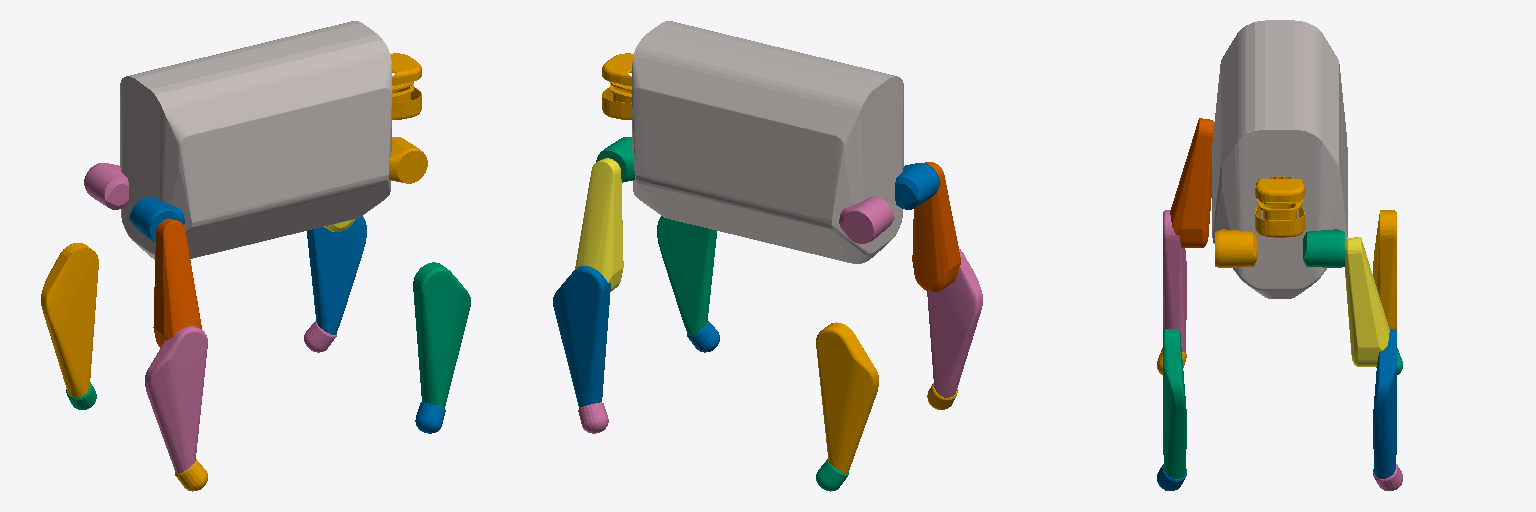
--- Render facts (derived) ---
3 views of the same robot in one strip: view 1: azimuth 30°, elevation 25°; view 2: azimuth 150°, elevation 25°; view 3: azimuth 270°, elevation 25° (orthographic).
Model anymal with 33 links and 32 joints (12 revolute, 1 continuous, 19 fixed), rooted at base, posed all joints at 0.
Links seen in each view (by area): view 1: base, LH_SHANK, RH_SHANK, RF_SHANK, LF_SHANK, RH_THIGH, actuated_lidar_front_hokuyo, LH_HIP, RF_HIP, RH_HIP, RF_FOOT_SENSOR, RH_FOOT_SENSOR (+1 smaller); view 2: base, LH_SHANK, LF_SHANK, RH_SHANK, RF_SHANK, LF_THIGH, RH_THIGH, LH_HIP, actuated_lidar_front_hokuyo, RH_HIP, LF_HIP, LF_FOOT_SENSOR (+2 smaller); view 3: base, LF_THIGH, RH_THIGH, RF_SHANK, LF_SHANK, actuated_lidar_front_hokuyo, RH_SHANK, LH_SHANK, LF_HIP, RF_HIP.
Boxes of the visible links, box(x1,y1,x2,y2) form: base: box(120, 21, 391, 259); LH_SHANK: box(41, 243, 98, 397); RH_SHANK: box(145, 326, 207, 473); RF_SHANK: box(413, 262, 470, 407); LF_SHANK: box(307, 216, 366, 334); RH_THIGH: box(153, 218, 201, 347); actuated_lidar_front_hokuyo: box(390, 53, 421, 119); LH_HIP: box(84, 163, 128, 209); RF_HIP: box(389, 137, 427, 183); RH_HIP: box(129, 197, 184, 242); RF_FOOT_SENSOR: box(415, 402, 445, 433); RH_FOOT_SENSOR: box(175, 459, 207, 491); base: box(632, 21, 903, 263); LH_SHANK: box(816, 322, 878, 473); LF_SHANK: box(553, 266, 610, 407); RH_SHANK: box(927, 249, 982, 397); RF_SHANK: box(657, 216, 716, 334); LF_THIGH: box(575, 158, 623, 290); RH_THIGH: box(912, 162, 960, 291); LH_HIP: box(839, 197, 894, 243); actuated_lidar_front_hokuyo: box(602, 53, 633, 119); RH_HIP: box(895, 163, 939, 209); LF_HIP: box(596, 137, 634, 182); LF_FOOT_SENSOR: box(578, 402, 608, 433); base: box(1212, 20, 1347, 298); LF_THIGH: box(1345, 237, 1389, 366); RH_THIGH: box(1170, 118, 1214, 247); RF_SHANK: box(1163, 329, 1186, 478); LF_SHANK: box(1373, 329, 1396, 478); actuated_lidar_front_hokuyo: box(1255, 176, 1304, 237); RH_SHANK: box(1163, 210, 1186, 352); LH_SHANK: box(1373, 210, 1396, 329); LF_HIP: box(1303, 229, 1344, 267); RF_HIP: box(1215, 229, 1256, 267).
Size in the robot's own frame: 0.8373 by 0.5658 by 0.9067 metres.
18 mesh visuals loaded from 12 distinct referenced files (1 binary STL, 9 Collada DAE); not drawn: 3 (reference not matched to a file when rendering).

URDF robot description (anymal):
<?xml version="1.0" ?>
<!-- =================================================================================== -->
<!-- |    This document was autogenerated by xacro from [local-path]/rpg-navigation/code/src/anymal_ori/anymal_ori/urdf/anymal_ori.urdf.xacro | -->
<!-- |    EDITING THIS FILE BY HAND IS NOT RECOMMENDED                                 | -->
<!-- =================================================================================== -->
<!--Copyright (C) 2015 by Dario Bellicoso                                    -->
<[email redacted]                                                 -->
<!--                                                                         -->
<!--This program is free software; you can redistribute it and/or modify     -->
<!--it under the terms of the Lesser GNU General Public License as published -->
<!--by the Free Software Foundation; either version 3 of the License, or     -->
<!--(at your option) any later version.                                      -->
<!--                                                                         -->
<!--This program is distributed in the hope that it will be useful,          -->
<!--but WITHOUT ANY WARRANTY; without even the implied warranty of           -->
<!--MERCHANTABILITY or FITNESS FOR A PARTICULAR PURPOSE. See the             -->
<!--Lesser GNU General Public License for more details.                      -->
<!--                                                                         -->
<!--You should have received a copy of the Lesser GNU General Public License -->
<!--along with this program. If not, see <http://www.gnu.org/licenses/>.     -->
<!-- This file contains the description of the ANYmal robot. -->
<robot name="anymal" xmlns:xacro="http://www.ros.org/wiki/xacro">
  <material name="black">
    <color rgba="0.0 0.0 0.0 1.0"/>
  </material>
  <material name="blue">
    <color rgba="0.0 0.0 0.8 1.0"/>
  </material>
  <material name="green">
    <color rgba="0.0 0.8 0.0 1.0"/>
  </material>
  <material name="grey">
    <color rgba="0.2 0.2 0.2 1.0"/>
  </material>
  <material name="light_grey">
    <color rgba="0.4 0.4 0.4 1.0"/>
  </material>
  <material name="orange">
    <color rgba="1.0 0.423529411765 0.0392156862745 1.0"/>
  </material>
  <material name="brown">
    <color rgba="0.870588235294 0.811764705882 0.764705882353 1.0"/>
  </material>
  <material name="red">
    <color rgba="0.8 0.0 0.0 1.0"/>
  </material>
  <material name="white">
    <color rgba="1.0 1.0 1.0 1.0"/>
  </material>
  <gazebo>
    <plugin filename="libanymal_gazebo.so" name="gazebo_ros_control">
      <robotNamespace>anymal</robotNamespace>
      <!-- Currently unused -->
      <robotDescription>quadruped_description</robotDescription>
      <robotBaseLink>base</robotBaseLink>
      <statePublisherRate>400.0</statePublisherRate>
    </plugin>
  </gazebo>
  <!-- Material for the visual primitives -->
  <material name="anymal_material">
    <color rgba="0.76078431 0.73333333 0.72156863 1.0"/>
  </material>
  <!-- Xacro:Properties -->
  <!-- [m] -->
  <!-- Base link -->
  <link name="base">
    <visual>
      <origin rpy="0 0 0" xyz="0 0 0"/>
      <geometry>
        <mesh filename="package://anymal_description_ori/urdf/base/anymal_base_2.dae" scale="0.001 0.001     0.001"/>
      </geometry>
      <material name="anymal_material"/>
    </visual>
    <collision>
      <!-- Main Body -->
      <origin rpy="0 0 0" xyz="0 0 0.08"/>
      <geometry>
        <box size="0.531 0.232 0.26"/>
      </geometry>
    </collision>
    <collision>
      <!-- Belly plate front bump -->
      <origin rpy="0 0 0" xyz="0.2155 0.0 -0.09"/>
      <geometry>
        <box size="0.1 0.1 0.07"/>
      </geometry>
    </collision>
    <collision>
      <!-- Belly plate hind bump-->
      <origin rpy="0 0 0" xyz="-0.2155 0.0 -0.09"/>
      <geometry>
        <box size="0.1 0.1 0.07"/>
      </geometry>
    </collision>
  </link>
  <!-- Fixed joint to add dummy inertia link -->
  <joint name="base_to_base_inertia" type="fixed">
    <parent link="base"/>
    <child link="base_inertia"/>
    <origin rpy="0 0 0" xyz="0 0 0"/>
  </joint>
  <!-- Dummy inertia link, because KDL cannot have inertia on the base link -->
  <link name="base_inertia">
    <inertial>
      <origin rpy="0 0 0" xyz="0.022 -0.01 0.01"/>
      <mass value="18.29"/>
      <inertia ixx="0.268388530624" ixy="0.000775392455422" ixz="-0.0151848534451" iyy="0.884235660795" iyz="-0.000989297489507" izz="0.829158678306"/>
    </inertial>
  </link>
  <!-- Xacro:Properties -->
  <!-- [m] -->
  <!-- [Nm] -->
  <link name="LF_HIP">
    <visual>
      <origin rpy="0 0 0.0" xyz="0 0 0"/>
      <geometry>
        <mesh filename="package://anymal_description_ori/urdf/hip/anymal_hip_l.dae" scale="0.001 0.001     0.001"/>
      </geometry>
    </visual>
    <collision>
      <origin rpy="1.57079632679 0 0" xyz="0.0585 0.0315 0.0"/>
      <geometry>
        <cylinder length="0.08" radius="0.04"/>
      </geometry>
    </collision>
    <inertial>
      <origin rpy="0 0 0" xyz="0.0542 -0.0136 0.0"/>
      <mass value="1.1064"/>
      <inertia ixx="0.00123301508523" ixy="-6.4285329973e-05" ixz="6.9990104e-08" iyy="0.000993231183395" iyz="2.327401345e-06" izz="0.00142160349098"/>
    </inertial>
  </link>
  <!-- Hip joint -->
  <joint name="LF_HAA" type="revolute">
    <parent link="base"/>
    <child link="LF_HIP"/>
    <origin xyz="0.2629 0.115 0.0"/>
    <axis xyz="1 0 0"/>
    <limit effort="80" lower="-6.28" upper="6.28" velocity="15"/>
    <dynamics damping="0.0" friction="0.0"/>
  </joint>
  <!-- Xacro:Properties -->
  <!-- [m] -->
  <!-- [Nm] -->
  <link name="LF_THIGH">
    <visual>
      <origin rpy="0 0 0.0" xyz="0 0 0"/>
      <geometry>
        <mesh filename="package://anymal_description_ori/urdf/thigh/anymal_thigh_l.dae" scale="0.001 0.001     0.001"/>
      </geometry>
    </visual>
    <collision>
      <origin rpy="0.145 0 0" xyz="0 0.02 -0.1"/>
      <geometry>
        <cylinder length="0.2" radius="0.01"/>
      </geometry>
    </collision>
    <collision>
      <origin rpy="1.57079632679 0 0" xyz="0.0 0.07 -0.25"/>
      <geometry>
        <cylinder length="0.08" radius="0.04"/>
      </geometry>
    </collision>
    <inertial>
      <origin rpy="0 0 0" xyz="0.0008 0.0545 -0.1975"/>
      <mass value="1.51"/>
      <inertia ixx="0.0147571628275" ixy="-1.7996507882e-05" ixz="0.000205877679383" iyy="0.0144188925719" iyz="-0.00181291342366" izz="0.00178449075964"/>
    </inertial>
  </link>
  <!-- Thigh joint -->
  <joint name="LF_HFE" type="revolute">
    <parent link="LF_HIP"/>
    <child link="LF_THIGH"/>
    <origin xyz="0.0585                    0.0315                    0.0"/>
    <axis xyz="0 1 0"/>
    <limit effort="80" lower="-6.28" upper="6.28" velocity="15"/>
    <dynamics damping="0.0" friction="0.0"/>
  </joint>
  <!-- Xacro:Properties -->
  <!-- [m] -->
  <!-- [Nm] -->
  <link name="LF_SHANK">
    <visual>
      <origin rpy="0 0 0.0" xyz="0 0 0"/>
      <geometry>
        <mesh filename="package://anymal_description_ori/urdf/shank/anymal_shank_2_l.dae" scale="0.001 0.001     0.001"/>
      </geometry>
    </visual>
    <collision>
      <origin rpy="0 -0.9 -0.2" xyz="0.04 -0.02 -0.04"/>
      <geometry>
        <cylinder length="0.13" radius="0.015"/>
      </geometry>
    </collision>
    <collision>
      <origin rpy="-0.0 0.34 0" xyz="0.06 -0.03 -0.18"/>
      <geometry>
        <cylinder length="0.19" radius="0.015"/>
      </geometry>
    </collision>
    <inertial>
      <origin rpy="0 0 0" xyz="0.016355414056 -0.00562219106 -0.064350437219"/>
      <mass value="0.318"/>
      <inertia ixx="0.0037693717909" ixy="-7.7334500762e-05" ixz="-0.000152069372983" iyy="0.00400446467635" iyz="-0.0003218356083" izz="0.000418471691904"/>
    </inertial>
  </link>
  <!-- Shank joint -->
  <joint name="LF_KFE" type="revolute">
    <parent link="LF_THIGH"/>
    <child link="LF_SHANK"/>
    <origin xyz="0.0 0.111 -0.25"/>
    <axis xyz="0 1 0"/>
    <limit effort="80" lower="-6.28" upper="6.28" velocity="15"/>
    <dynamics damping="0.0" friction="0.0"/>
  </joint>
  <!-- Foot mount link -->
  <link name="LF_FOOT_MOUNT"/>
  <!-- Foot mount joint / ankle -->
  <joint name="LF_ANKLE_JOINT" type="fixed">
    <parent link="LF_SHANK"/>
    <child link="LF_FOOT_MOUNT"/>
    <origin rpy="0.323 0.549 0" xyz="0.0 -0.016 -0.31"/>
  </joint>
  <!-- Xacro:Properties -->
  <!-- [m] -->
  <link name="LF_FOOT_SENSOR">
    <visual>
      <origin rpy="0 0 0" xyz="0 0 0"/>
      <geometry>
        <mesh filename="package://anymal_description_ori/urdf/foot/anymal_foot_2.dae" scale="0.001 0.001     0.001"/>
      </geometry>
    </visual>
    <collision>
      <origin rpy="0 0 0" xyz="0.0 0.0 -0.0385"/>
      <geometry>
        <sphere radius="0.02"/>
      </geometry>
    </collision>
    <inertial>
      <origin rpy="0 0 0" xyz="-5.552058e-06 7.1133124e-05 -0.021388647779"/>
      <mass value="0.1922685"/>
      <inertia ixx="8.3086410294e-05" ixy="4.16901601e-07" ixz="3.99054799e-07" iyy="8.2860209667e-05" iyz="-3.45712252e-07" izz="8.1948124086e-05"/>
    </inertial>
  </link>
  <!-- Foot sensor joint -->
  <joint name="LF_MOUNT_TO_SENSOR" type="fixed">
    <parent link="LF_FOOT_MOUNT"/>
    <child link="LF_FOOT_SENSOR"/>
    <origin rpy="0 0 0" xyz="0 0 0"/>
  </joint>
  <!-- Gazebo customization -->
  <gazebo reference="LF_FOOT_SENSOR">
    <kp>1000000.0</kp>
    <kd>100.0</kd>
    <mu1>0.8</mu1>
    <mu2>0.8</mu2>
  </gazebo>
  <gazebo reference="LF_MOUNT_TO_SENSOR"/>
  <!-- Foot link -->
  <link name="LF_FOOT">
    </link>
  <!-- Foot joint -->
  <joint name="LF_SENSOR_TO_FOOT" type="fixed">
    <parent link="LF_FOOT_SENSOR"/>
    <child link="LF_FOOT"/>
    <origin rpy="0 0 0" xyz="0.0 0.0 -0.0385"/>
  </joint>
  <!-- Xacro:Properties -->
  <!-- [m] -->
  <!-- [Nm] -->
  <link name="RF_HIP">
    <visual>
      <origin rpy="0 0 0.0" xyz="0 0 0"/>
      <geometry>
        <mesh filename="package://anymal_description_ori/urdf/hip/anymal_hip_r.dae" scale="0.001 0.001     0.001"/>
      </geometry>
    </visual>
    <collision>
      <origin rpy="1.57079632679 0 0" xyz="0.0585 -0.0315 0.0"/>
      <geometry>
        <cylinder length="0.08" radius="0.04"/>
      </geometry>
    </collision>
    <inertial>
      <origin rpy="0 0 0" xyz="0.0542 0.0136 0.0"/>
      <mass value="1.1064"/>
      <inertia ixx="0.00123301508523" ixy="6.4285329973e-05" ixz="6.9990104e-08" iyy="0.000993231183395" iyz="-2.327401345e-06" izz="0.00142160349098"/>
    </inertial>
  </link>
  <!-- Hip joint -->
  <joint name="RF_HAA" type="revolute">
    <parent link="base"/>
    <child link="RF_HIP"/>
    <origin xyz="0.2629 -0.115 0.0"/>
    <axis xyz="1 0 0"/>
    <limit effort="80" lower="-6.28" upper="6.28" velocity="15"/>
    <dynamics damping="0.0" friction="0.0"/>
  </joint>
  <!-- Xacro:Properties -->
  <!-- [m] -->
  <!-- [Nm] -->
  <link name="RF_THIGH">
    <visual>
      <origin rpy="0 0 0.0" xyz="0 0 0"/>
      <geometry>
        <mesh filename="package://anymal_description_ori/urdf/thigh/anymal_thigh_r.dae" scale="0.001 0.001     0.001"/>
      </geometry>
    </visual>
    <collision>
      <origin rpy="-0.145 0 0" xyz="0 -0.02 -0.1"/>
      <geometry>
        <cylinder length="0.2" radius="0.01"/>
      </geometry>
    </collision>
    <collision>
      <origin rpy="1.57079632679 0 0" xyz="0.0 -0.07 -0.25"/>
      <geometry>
        <cylinder length="0.08" radius="0.04"/>
      </geometry>
    </collision>
    <inertial>
      <origin rpy="0 0 0" xyz="0.0008 -0.0545 -0.1975"/>
      <mass value="1.51"/>
      <inertia ixx="0.0147571628275" ixy="1.7996507882e-05" ixz="0.000205877679383" iyy="0.0144188925719" iyz="0.00181291342366" izz="0.00178449075964"/>
    </inertial>
  </link>
  <!-- Thigh joint -->
  <joint name="RF_HFE" type="revolute">
    <parent link="RF_HIP"/>
    <child link="RF_THIGH"/>
    <origin xyz="0.0585                    -0.0315                    0.0"/>
    <axis xyz="0 1 0"/>
    <limit effort="80" lower="-6.28" upper="6.28" velocity="15"/>
    <dynamics damping="0.0" friction="0.0"/>
  </joint>
  <!-- Xacro:Properties -->
  <!-- [m] -->
  <!-- [Nm] -->
  <link name="RF_SHANK">
    <visual>
      <origin rpy="0 0 0.0" xyz="0 0 0"/>
      <geometry>
        <mesh filename="package://anymal_description_ori/urdf/shank/anymal_shank_2_r.dae" scale="0.001 0.001     0.001"/>
      </geometry>
    </visual>
    <collision>
      <origin rpy="0 -0.9 0.2" xyz="0.04 0.02 -0.04"/>
      <geometry>
        <cylinder length="0.13" radius="0.015"/>
      </geometry>
    </collision>
    <collision>
      <origin rpy="0.0 0.34 0" xyz="0.06 0.03 -0.18"/>
      <geometry>
        <cylinder length="0.19" radius="0.015"/>
      </geometry>
    </collision>
    <inertial>
      <origin rpy="0 0 0" xyz="0.016355414056 0.00562219106 -0.064350437219"/>
      <mass value="0.318"/>
      <inertia ixx="0.0037693717909" ixy="7.7334500762e-05" ixz="-0.000152069372983" iyy="0.00400446467635" iyz="0.0003218356083" izz="0.000418471691904"/>
    </inertial>
  </link>
  <!-- Shank joint -->
  <joint name="RF_KFE" type="revolute">
    <parent link="RF_THIGH"/>
    <child link="RF_SHANK"/>
    <origin xyz="0.0 -0.111 -0.25"/>
    <axis xyz="0 1 0"/>
    <limit effort="80" lower="-6.28" upper="6.28" velocity="15"/>
    <dynamics damping="0.0" friction="0.0"/>
  </joint>
  <!-- Foot mount link -->
  <link name="RF_FOOT_MOUNT"/>
  <!-- Foot mount joint / ankle -->
  <joint name="RF_ANKLE_JOINT" type="fixed">
    <parent link="RF_SHANK"/>
    <child link="RF_FOOT_MOUNT"/>
    <origin rpy="-0.323 0.549 0" xyz="0.0 0.016 -0.31"/>
  </joint>
  <!-- Xacro:Properties -->
  <!-- [m] -->
  <link name="RF_FOOT_SENSOR">
    <visual>
      <origin rpy="0 0 0" xyz="0 0 0"/>
      <geometry>
        <mesh filename="package://anymal_description_ori/urdf/foot/anymal_foot_2.dae" scale="0.001 0.001     0.001"/>
      </geometry>
    </visual>
    <collision>
      <origin rpy="0 0 0" xyz="0.0 0.0 -0.0385"/>
      <geometry>
        <sphere radius="0.02"/>
      </geometry>
    </collision>
    <inertial>
      <origin rpy="0 0 0" xyz="-5.552058e-06 -7.1133124e-05 -0.021388647779"/>
      <mass value="0.1922685"/>
      <inertia ixx="8.3086410294e-05" ixy="-4.16901601e-07" ixz="3.99054799e-07" iyy="8.2860209667e-05" iyz="3.45712252e-07" izz="8.1948124086e-05"/>
    </inertial>
  </link>
  <!-- Foot sensor joint -->
  <joint name="RF_MOUNT_TO_SENSOR" type="fixed">
    <parent link="RF_FOOT_MOUNT"/>
    <child link="RF_FOOT_SENSOR"/>
    <origin rpy="0 0 0" xyz="0 0 0"/>
  </joint>
  <!-- Gazebo customization -->
  <gazebo reference="RF_FOOT_SENSOR">
    <kp>1000000.0</kp>
    <kd>100.0</kd>
    <mu1>0.8</mu1>
    <mu2>0.8</mu2>
  </gazebo>
  <gazebo reference="RF_MOUNT_TO_SENSOR"/>
  <!-- Foot link -->
  <link name="RF_FOOT">
    </link>
  <!-- Foot joint -->
  <joint name="RF_SENSOR_TO_FOOT" type="fixed">
    <parent link="RF_FOOT_SENSOR"/>
    <child link="RF_FOOT"/>
    <origin rpy="0 0 0" xyz="0.0 0.0 -0.0385"/>
  </joint>
  <!-- Xacro:Properties -->
  <!-- [m] -->
  <!-- [Nm] -->
  <link name="LH_HIP">
    <visual>
      <origin rpy="0 0 -3.14159265359" xyz="0 0 0"/>
      <geometry>
        <mesh filename="package://anymal_description_ori/urdf/hip/anymal_hip_r.dae" scale="0.001 0.001     0.001"/>
      </geometry>
    </visual>
    <collision>
      <origin rpy="-1.57079632679 0 0" xyz="-0.0585 0.0315 0.0"/>
      <geometry>
        <cylinder length="0.08" radius="0.04"/>
      </geometry>
    </collision>
    <inertial>
      <origin rpy="0 0 0" xyz="-0.0542 -0.0136 0.0"/>
      <mass value="1.1064"/>
      <inertia ixx="0.00123301508523" ixy="6.4285329973e-05" ixz="-6.9990104e-08" iyy="0.000993231183395" iyz="2.327401345e-06" izz="0.00142160349098"/>
    </inertial>
  </link>
  <!-- Hip joint -->
  <joint name="LH_HAA" type="revolute">
    <parent link="base"/>
    <child link="LH_HIP"/>
    <origin xyz="-0.2629 0.115 0.0"/>
    <axis xyz="1 0 0"/>
    <limit effort="80" lower="-6.28" upper="6.28" velocity="15"/>
    <dynamics damping="0.0" friction="0.0"/>
  </joint>
  <!-- Xacro:Properties -->
  <!-- [m] -->
  <!-- [Nm] -->
  <link name="LH_THIGH">
    <visual>
      <origin rpy="0 0 -3.14159265359" xyz="0 0 0"/>
      <geometry>
        <mesh filename="package://anymal_description_ori/urdf/thigh/anymal_thigh_r.dae" scale="0.001 0.001     0.001"/>
      </geometry>
    </visual>
    <collision>
      <origin rpy="0.145 0 0" xyz="0 0.02 -0.1"/>
      <geometry>
        <cylinder length="0.2" radius="0.01"/>
      </geometry>
    </collision>
    <collision>
      <origin rpy="1.57079632679 0 0" xyz="0.0 0.07 -0.25"/>
      <geometry>
        <cylinder length="0.08" radius="0.04"/>
      </geometry>
    </collision>
    <inertial>
      <origin rpy="0 0 0" xyz="-0.0008 0.0545 -0.1975"/>
      <mass value="1.51"/>
      <inertia ixx="0.0147571628275" ixy="1.7996507882e-05" ixz="-0.000205877679383" iyy="0.0144188925719" iyz="-0.00181291342366" izz="0.00178449075964"/>
    </inertial>
  </link>
  <!-- Thigh joint -->
  <joint name="LH_HFE" type="revolute">
    <parent link="LH_HIP"/>
    <child link="LH_THIGH"/>
    <origin xyz="-0.0585                    0.0315                    0.0"/>
    <axis xyz="0 1 0"/>
    <limit effort="80" lower="-6.28" upper="6.28" velocity="15"/>
    <dynamics damping="0.0" friction="0.0"/>
  </joint>
  <!-- Xacro:Properties -->
  <!-- [m] -->
  <!-- [Nm] -->
  <link name="LH_SHANK">
    <visual>
      <origin rpy="0 0 -3.14159265359" xyz="0 0 0"/>
      <geometry>
        <mesh filename="package://anymal_description_ori/urdf/shank/anymal_shank_2_r.dae" scale="0.001 0.001     0.001"/>
      </geometry>
    </visual>
    <collision>
      <origin rpy="0 0.9 0.2" xyz="-0.04 -0.02 -0.04"/>
      <geometry>
        <cylinder length="0.13" radius="0.015"/>
      </geometry>
    </collision>
    <collision>
      <origin rpy="-0.0 -0.34 0" xyz="-0.06 -0.03 -0.18"/>
      <geometry>
        <cylinder length="0.19" radius="0.015"/>
      </geometry>
    </collision>
    <inertial>
      <origin rpy="0 0 0" xyz="-0.016355414056 -0.00562219106 -0.064350437219"/>
      <mass value="0.318"/>
      <inertia ixx="0.0037693717909" ixy="7.7334500762e-05" ixz="0.000152069372983" iyy="0.00400446467635" iyz="-0.0003218356083" izz="0.000418471691904"/>
    </inertial>
  </link>
  <!-- Shank joint -->
  <joint name="LH_KFE" type="revolute">
    <parent link="LH_THIGH"/>
    <child link="LH_SHANK"/>
    <origin xyz="-0.0 0.111 -0.25"/>
    <axis xyz="0 1 0"/>
    <limit effort="80" lower="-6.28" upper="6.28" velocity="15"/>
    <dynamics damping="0.0" friction="0.0"/>
  </joint>
  <!-- Foot mount link -->
  <link name="LH_FOOT_MOUNT"/>
  <!-- Foot mount joint / ankle -->
  <joint name="LH_ANKLE_JOINT" type="fixed">
    <parent link="LH_SHANK"/>
    <child link="LH_FOOT_MOUNT"/>
    <origin rpy="0.323 -0.549 0" xyz="-0.0 -0.016 -0.31"/>
  </joint>
  <!-- Xacro:Properties -->
  <!-- [m] -->
  <link name="LH_FOOT_SENSOR">
    <visual>
      <origin rpy="0 0 0" xyz="0 0 0"/>
      <geometry>
        <mesh filename="package://anymal_description_ori/urdf/foot/anymal_foot_2.dae" scale="0.001 0.001     0.001"/>
      </geometry>
    </visual>
    <collision>
      <origin rpy="0 0 0" xyz="0.0 0.0 -0.0385"/>
      <geometry>
        <sphere radius="0.02"/>
      </geometry>
    </collision>
    <inertial>
      <origin rpy="0 0 0" xyz="5.552058e-06 7.1133124e-05 -0.021388647779"/>
      <mass value="0.1922685"/>
      <inertia ixx="8.3086410294e-05" ixy="-4.16901601e-07" ixz="-3.99054799e-07" iyy="8.2860209667e-05" iyz="-3.45712252e-07" izz="8.1948124086e-05"/>
    </inertial>
  </link>
  <!-- Foot sensor joint -->
  <joint name="LH_MOUNT_TO_SENSOR" type="fixed">
    <parent link="LH_FOOT_MOUNT"/>
    <child link="LH_FOOT_SENSOR"/>
    <origin rpy="0 0 0" xyz="0 0 0"/>
  </joint>
  <!-- Gazebo customization -->
  <gazebo reference="LH_FOOT_SENSOR">
    <kp>1000000.0</kp>
    <kd>100.0</kd>
    <mu1>0.8</mu1>
    <mu2>0.8</mu2>
  </gazebo>
  <gazebo reference="LH_MOUNT_TO_SENSOR"/>
  <!-- Foot link -->
  <link name="LH_FOOT">
    </link>
  <!-- Foot joint -->
  <joint name="LH_SENSOR_TO_FOOT" type="fixed">
    <parent link="LH_FOOT_SENSOR"/>
    <child link="LH_FOOT"/>
    <origin rpy="0 0 0" xyz="0.0 0.0 -0.0385"/>
  </joint>
  <!-- Xacro:Properties -->
  <!-- [m] -->
  <!-- [Nm] -->
  <link name="RH_HIP">
    <visual>
      <origin rpy="0 0 -3.14159265359" xyz="0 0 0"/>
      <geometry>
        <mesh filename="package://anymal_description_ori/urdf/hip/anymal_hip_l.dae" scale="0.001 0.001     0.001"/>
      </geometry>
    </visual>
    <collision>
      <origin rpy="-1.57079632679 0 0" xyz="-0.0585 -0.0315 0.0"/>
      <geometry>
        <cylinder length="0.08" radius="0.04"/>
      </geometry>
    </collision>
    <inertial>
      <origin rpy="0 0 0" xyz="-0.0542 0.0136 0.0"/>
      <mass value="1.1064"/>
      <inertia ixx="0.00123301508523" ixy="-6.4285329973e-05" ixz="-6.9990104e-08" iyy="0.000993231183395" iyz="-2.327401345e-06" izz="0.00142160349098"/>
    </inertial>
  </link>
  <!-- Hip joint -->
  <joint name="RH_HAA" type="revolute">
    <parent link="base"/>
    <child link="RH_HIP"/>
    <origin xyz="-0.2629 -0.115 0.0"/>
    <axis xyz="1 0 0"/>
    <limit effort="80" lower="-6.28" upper="6.28" velocity="15"/>
    <dynamics damping="0.0" friction="0.0"/>
  </joint>
  <!-- Xacro:Properties -->
  <!-- [m] -->
  <!-- [Nm] -->
  <link name="RH_THIGH">
    <visual>
      <origin rpy="0 0 -3.14159265359" xyz="0 0 0"/>
      <geometry>
        <mesh filename="package://anymal_description_ori/urdf/thigh/anymal_thigh_l.dae" scale="0.001 0.001     0.001"/>
      </geometry>
    </visual>
    <collision>
      <origin rpy="-0.145 0 0" xyz="0 -0.02 -0.1"/>
      <geometry>
        <cylinder length="0.2" radius="0.01"/>
      </geometry>
    </collision>
    <collision>
      <origin rpy="1.57079632679 0 0" xyz="0.0 -0.07 -0.25"/>
      <geometry>
        <cylinder length="0.08" radius="0.04"/>
      </geometry>
    </collision>
    <inertial>
      <origin rpy="0 0 0" xyz="-0.0008 -0.0545 -0.1975"/>
      <mass value="1.51"/>
      <inertia ixx="0.0147571628275" ixy="-1.7996507882e-05" ixz="-0.000205877679383" iyy="0.0144188925719" iyz="0.00181291342366" izz="0.00178449075964"/>
    </inertial>
  </link>
  <!-- Thigh joint -->
  <joint name="RH_HFE" type="revolute">
    <parent link="RH_HIP"/>
    <child link="RH_THIGH"/>
    <origin xyz="-0.0585                    -0.0315                    0.0"/>
    <axis xyz="0 1 0"/>
    <limit effort="80" lower="-6.28" upper="6.28" velocity="15"/>
    <dynamics damping="0.0" friction="0.0"/>
  </joint>
  <!-- Xacro:Properties -->
  <!-- [m] -->
  <!-- [Nm] -->
  <link name="RH_SHANK">
    <visual>
      <origin rpy="0 0 -3.14159265359" xyz="0 0 0"/>
      <geometry>
        <mesh filename="package://anymal_description_ori/urdf/shank/anymal_shank_2_l.dae" scale="0.001 0.001     0.001"/>
      </geometry>
    </visual>
    <collision>
      <origin rpy="0 0.9 -0.2" xyz="-0.04 0.02 -0.04"/>
      <geometry>
        <cylinder length="0.13" radius="0.015"/>
      </geometry>
    </collision>
    <collision>
      <origin rpy="0.0 -0.34 0" xyz="-0.06 0.03 -0.18"/>
      <geometry>
        <cylinder length="0.19" radius="0.015"/>
      </geometry>
    </collision>
    <inertial>
      <origin rpy="0 0 0" xyz="-0.016355414056 0.00562219106 -0.064350437219"/>
      <mass value="0.318"/>
      <inertia ixx="0.0037693717909" ixy="-7.7334500762e-05" ixz="0.000152069372983" iyy="0.00400446467635" iyz="0.0003218356083" izz="0.000418471691904"/>
    </inertial>
  </link>
  <!-- Shank joint -->
  <joint name="RH_KFE" type="revolute">
    <parent link="RH_THIGH"/>
    <child link="RH_SHANK"/>
    <origin xyz="-0.0 -0.111 -0.25"/>
    <axis xyz="0 1 0"/>
    <limit effort="80" lower="-6.28" upper="6.28" velocity="15"/>
    <dynamics damping="0.0" friction="0.0"/>
  </joint>
  <!-- Foot mount link -->
  <link name="RH_FOOT_MOUNT"/>
  <!-- Foot mount joint / ankle -->
  <joint name="RH_ANKLE_JOINT" type="fixed">
    <parent link="RH_SHANK"/>
    <child link="RH_FOOT_MOUNT"/>
    <origin rpy="-0.323 -0.549 0" xyz="-0.0 0.016 -0.31"/>
  </joint>
  <!-- Xacro:Properties -->
  <!-- [m] -->
  <link name="RH_FOOT_SENSOR">
    <visual>
      <origin rpy="0 0 0" xyz="0 0 0"/>
      <geometry>
        <mesh filename="package://anymal_description_ori/urdf/foot/anymal_foot_2.dae" scale="0.001 0.001     0.001"/>
      </geometry>
    </visual>
    <collision>
      <origin rpy="0 0 0" xyz="0.0 0.0 -0.0385"/>
      <geometry>
        <sphere radius="0.02"/>
      </geometry>
    </collision>
    <inertial>
      <origin rpy="0 0 0" xyz="5.552058e-06 -7.1133124e-05 -0.021388647779"/>
      <mass value="0.1922685"/>
      <inertia ixx="8.3086410294e-05" ixy="4.16901601e-07" ixz="-3.99054799e-07" iyy="8.2860209667e-05" iyz="3.45712252e-07" izz="8.1948124086e-05"/>
    </inertial>
  </link>
  <!-- Foot sensor joint -->
  <joint name="RH_MOUNT_TO_SENSOR" type="fixed">
    <parent link="RH_FOOT_MOUNT"/>
    <child link="RH_FOOT_SENSOR"/>
    <origin rpy="0 0 0" xyz="0 0 0"/>
  </joint>
  <!-- Gazebo customization -->
  <gazebo reference="RH_FOOT_SENSOR">
    <kp>1000000.0</kp>
    <kd>100.0</kd>
    <mu1>0.8</mu1>
    <mu2>0.8</mu2>
  </gazebo>
  <gazebo reference="RH_MOUNT_TO_SENSOR"/>
  <!-- Foot link -->
  <link name="RH_FOOT">
    </link>
  <!-- Foot joint -->
  <joint name="RH_SENSOR_TO_FOOT" type="fixed">
    <parent link="RH_FOOT_SENSOR"/>
    <child link="RH_FOOT"/>
    <origin rpy="0 0 0" xyz="0.0 0.0 -0.0385"/>
  </joint>
  <link name="imu_link">
    <visual>
      <origin rpy="0 0 0" xyz="0 0 0.011"/>
      <geometry>
        <box size="0.058 0.058 0.022"/>
      </geometry>
      <material name="orange"/>
    </visual>
    <collision>
      <origin rpy="0 0 0" xyz="0 0 0.011"/>
      <geometry>
        <box size="0.058 0.058 0.022"/>
      </geometry>
    </collision>
    <inertial>
      <mass value="0.05"/>
      <origin xyz="0 0 0"/>
      <inertia ixx="1.60333333333e-05" ixy="0.0" ixz="0.0" iyy="2.80333333333e-05" iyz="0.0" izz="1.60333333333e-05"/>
    </inertial>
  </link>
  <joint name="imu_joint" type="fixed">
    <parent link="base"/>
    <child link="imu_link"/>
    <origin rpy="3.14159265359 0 0" xyz="0.0245 -0.04255 0.1857"/>
  </joint>
  <gazebo reference="imu_link">
    <material>Gazebo/Orange</material>
    <mu1>0.8</mu1>
    <mu2>0.8</mu2>
  </gazebo>
  <gazebo reference="imu_joint">
      </gazebo>
  <gazebo>
    <plugin filename="libhector_gazebo_ros_imu.so" name="imu_plugin">
      <robotNamespace>sensors</robotNamespace>
      <bodyName>imu_link</bodyName>
      <frameId>/imu_link</frameId>
      <topicName>imu</topicName>
      <biasTopicName>imu/bias</biasTopicName>
      <serviceName>imu/calibrate</serviceName>
      <updateRate>400</updateRate>
      <!-- See https://www.xsens.com/wp-content/uploads/2013/11/mti-leaflet.pdf for the complete IMU specs-->
      <accelOffset>0 0 0</accelOffset>
      <accelDrift>0.5 0.5 0.5</accelDrift>
      <accelDriftFrequency>0 0 0</accelDriftFrequency>
      <accelGaussianNoise>0.35 0.35 0.3</accelGaussianNoise>
      <accelScaleError>1 1 1</accelScaleError>
      <rateOffset>0 0 0</rateOffset>
      <rateDrift>0.1 0.1 0.1</rateDrift>
      <rateDriftFrequency>0 0 0</rateDriftFrequency>
      <rateGaussianNoise>0.05 0.05 0.015</rateGaussianNoise>
      <rateScaleError>1 1 1</rateScaleError>
      <yawOffset>0</yawOffset>
      <yawDrift>0.1</yawDrift>
      <yawDriftFrequency>0</yawDriftFrequency>
      <yawGaussianNoise>0.05</yawGaussianNoise>
      <yawScaleError>1</yawScaleError>
      <xyzOffsets>0 0 0</xyzOffsets>
      <rpyOffsets>0 0 0</rpyOffsets>
    </plugin>
  </gazebo>
  <joint name="base_to_actuated_lidar_front_mass" type="fixed">
    <origin rpy="0.0 0.0 0.0" xyz="0.0 0.0 0.0"/>
    <parent link="base"/>
    <child link="actuated_lidar_front_mass"/>
  </joint>
  <link name="actuated_lidar_front_mass">
    <inertial>
      <origin rpy="0 0 0" xyz="0.292841755952 0.001047900228 0.141427870709"/>
      <mass value="1.392418888"/>
      <inertia ixx="0.002305684069948" ixy="-0.000086948644451" ixz="0.000921858442372" iyy="0.006893867805815" iyz="0.000017735314243" izz="0.006221132462993"/>
    </inertial>
  </link>
  <joint name="base_to_actuated_lidar_front_dynamixel_axis_aligned" type="fixed">
    <origin rpy="1.57079632679 0.0 1.57079632679" xyz="0.2 0.0 0.1415"/>
    <parent link="base"/>
    <child link="actuated_lidar_front_dynamixel_axis_aligned"/>
  </joint>
  <link name="actuated_lidar_front_dynamixel_axis_aligned">
    <visual>
      <origin rpy="0 0 0" xyz="0 0 0"/>
      <geometry>
        <mesh filename="package://actuated_lidar_description_ori/mesh/case_fix.dae" scale=".001 .001 .001"/>
      </geometry>
    </visual>
    <visual>
      <origin rpy="0 0 0" xyz="0 0 0"/>
      <geometry>
        <mesh filename="package://dynamixel_description/mesh/MX64.stl" scale=".001 .001 .001"/>
      </geometry>
      <material name="black">
        <color rgba="0.1 0.1 0.1 1"/>
      </material>
    </visual>
    <inertial>
      <origin rpy="0 0 0" xyz="0 0 0"/>
      <!-- Set the inertial parameters to neglectable values: these effects will be considered on a different rigid body -->
      <mass value="0.001"/>
      <inertia ixx="0.00001" ixy="0.0" ixz="0.0" iyy="0.00001" iyz="0.0" izz="0.00001"/>
    </inertial>
  </link>
  <joint name="actuated_lidar_front_dynamixel_axis_aligned_to_dynamixel" type="fixed">
    <origin rpy="0.0 0.0 0.0" xyz="0.0 0.0 0.0"/>
    <parent link="actuated_lidar_front_dynamixel_axis_aligned"/>
    <child link="actuated_lidar_front_dynamixel"/>
  </joint>
  <link name="actuated_lidar_front_dynamixel">
    <inertial>
      <origin rpy="0 0 0" xyz="0 0 0"/>
      <!-- Set the inertial parameters to neglectable values: these effects will be considered on a different rigid body -->
      <mass value="0.001"/>
      <inertia ixx="0.00001" ixy="0.0" ixz="0.0" iyy="0.00001" iyz="0.0" izz="0.00001"/>
      <!--<mass value="0.13"/>-->
      <!--<inertia ixx="0.000027961" ixy="0.0" ixz="0.0" iyy="0.000052184" iyz="0.0" izz="0.000043723"/>-->
    </inertial>
  </link>
  <joint name="actuated_lidar_front_dynamixel" type="continuous">
    <physics>
      <provide_feedback>true</provide_feedback>
    </physics>
    <parent link="actuated_lidar_front_dynamixel"/>
    <child link="actuated_lidar_front_dynamixel_servo"/>
    <limit effort="10" velocity="10"/>
    <origin rpy="0 0 0" xyz="0 0 0"/>
    <axis xyz="0 0 -1"/>
    <dynamics damping="0.0"/>
  </joint>
  <link name="actuated_lidar_front_dynamixel_servo"/>
  <joint name="actuated_lidar_front_dynamixel_servo_to_hokuyo_axis_aligned" type="fixed">
    <origin rpy="-1.57079632679 -1.57079632679 0" xyz="0 0 0.1515"/>
    <parent link="actuated_lidar_front_dynamixel_servo"/>
    <child link="actuated_lidar_front_hokuyo_axis_aligned"/>
  </joint>
  <link name="actuated_lidar_front_hokuyo_axis_aligned"/>
  <joint name="actuated_lidar_front_hokuyo_axis_aligned_to_hokuyo" type="fixed">
    <origin rpy="0.0 0.0 0.0" xyz="0.0 0.0 0.0"/>
    <parent link="actuated_lidar_front_hokuyo_axis_aligned"/>
    <child link="actuated_lidar_front_hokuyo"/>
  </joint>
  <link name="actuated_lidar_front_hokuyo">
    <visual>
      <origin rpy="0 0 0" xyz="0 0 0"/>
      <geometry>
        <mesh filename="package://actuated_lidar_description_ori/mesh/case_moving.dae" scale=".001 .001 .001"/>
      </geometry>
    </visual>
    <visual>
      <origin rpy="0 0 0" xyz="0 0 0"/>
      <geometry>
        <mesh filename="package://actuated_lidar_description_ori/mesh/hokuyo_utm_30lx.dae"/>
      </geometry>
      <material name="">
        <color rgba="0.72941 0.35686 0.023529 1"/>
      </material>
    </visual>
    <collision>
      <origin rpy="0 0 0" xyz="0.01 0 -0.01"/>
      <geometry>
        <cylinder length="0.12" radius="0.06"/>
      </geometry>
    </collision>
    <inertial>
      <origin rpy="0 0 0" xyz="0.0 0.0 0.0"/>
      <!-- Set the inertial parameters to neglectable values: these effects will be considered on a different rigid body -->
      <mass value="0.001"/>
      <inertia ixx="0.00001" ixy="0.0" ixz="0.0" iyy="0.00001" iyz="0.0" izz="0.00001"/>
      <!--<mass value="0.057654"/>-->
      <!--<inertia iyy="4.2412E-05" ixy="4.9927E-08" iyz="-9.8165E-09" ixx="3.7174E-05" ixz="1.1015E-05" izz="4.167E-05"/>-->
    </inertial>
  </link>
  <!-- Actuated lidar physics simulation -->
  <gazebo reference="actuated_lidar_front_link">
    <mu1>0.9</mu1>
    <mu2>0.9</mu2>
  </gazebo>
  <!-- Actuated lidar hokuyo simulation and driver -->
  <gazebo reference="actuated_lidar_front_hokuyo">
    <sensor name="actuated_lidar_front_hokuyo" type="gpu_ray">
      <pose>0 0 0 0 0 0</pose>
      <visualize>false</visualize>
      <update_rate>40</update_rate>
      <ray>
        <scan>
          <horizontal>
            <samples>1081</samples>
            <resolution>1</resolution>
            <min_angle>-2.356194496154785</min_angle>
            <max_angle>2.356194496154785</max_angle>
          </horizontal>
        </scan>
        <range>
          <min>0.10</min>
          <max>30.0</max>
          <resolution>0.01</resolution>
        </range>
        <noise>
          <type>gaussian</type>
          <!-- Noise parameters based on published spec for Hokuyo laser
                   achieving "+-30mm" accuracy at range < 10m.  A mean of 0.0m and
                   stddev of 0.01m will put 99.7% of samples within 0.03m of the true
                   reading. -->
          <mean>0.0</mean>
          <stddev>0.01</stddev>
        </noise>
      </ray>
      <plugin filename="libgazebo_ros_gpu_laser.so" name="actuated_lidar_front_hokuyo">
        <topicName>/actuated_lidar_front/scan</topicName>
        <frameName>actuated_lidar_front_hokuyo</frameName>
      </plugin>
    </sensor>
  </gazebo>
  <!-- Actuated lidar dynamixel simulation and driver -->
  <gazebo>
    <plugin filename="libdynamixel_gazebo_plugin.so" name="actuated_lidar_front_dynamixel_controller">
      <joint>actuated_lidar_front_dynamixel</joint>
      <command_topic_name>/actuated_lidar_front/dynamixel/controller/command</command_topic_name>
      <state_topic_name>/actuated_lidar_front/dynamixel/controller/state</state_topic_name>
      <set_goal_position_service_name>/actuated_lidar_front/dynamixel/set_goal_position</set_goal_position_service_name>
      <set_angle_limits_service_name>/actuated_lidar_front/dynamixel/set_angle_limits</set_angle_limits_service_name>
      <set_moving_speed_service_name>/actuated_lidar_front/dynamixel/set_moving_speed</set_moving_speed_service_name>
      <joint_state_topic_name>/actuated_lidar_front/dynamixel/joint_state</joint_state_topic_name>
      <default_pos>0</default_pos>
      <default_torque_limit>100</default_torque_limit>
    </plugin>
  </gazebo>
</robot>
